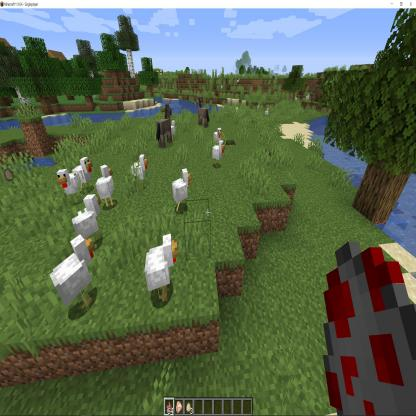minecraft-pigs: (201, 184, 219, 224)
